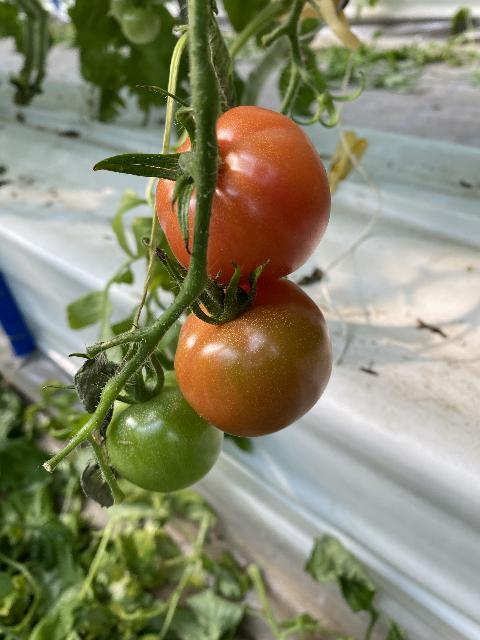l_fully_ripened: (155, 105, 332, 287)
l_green: (104, 369, 225, 493)
l_half_ripened: (174, 278, 334, 439)
